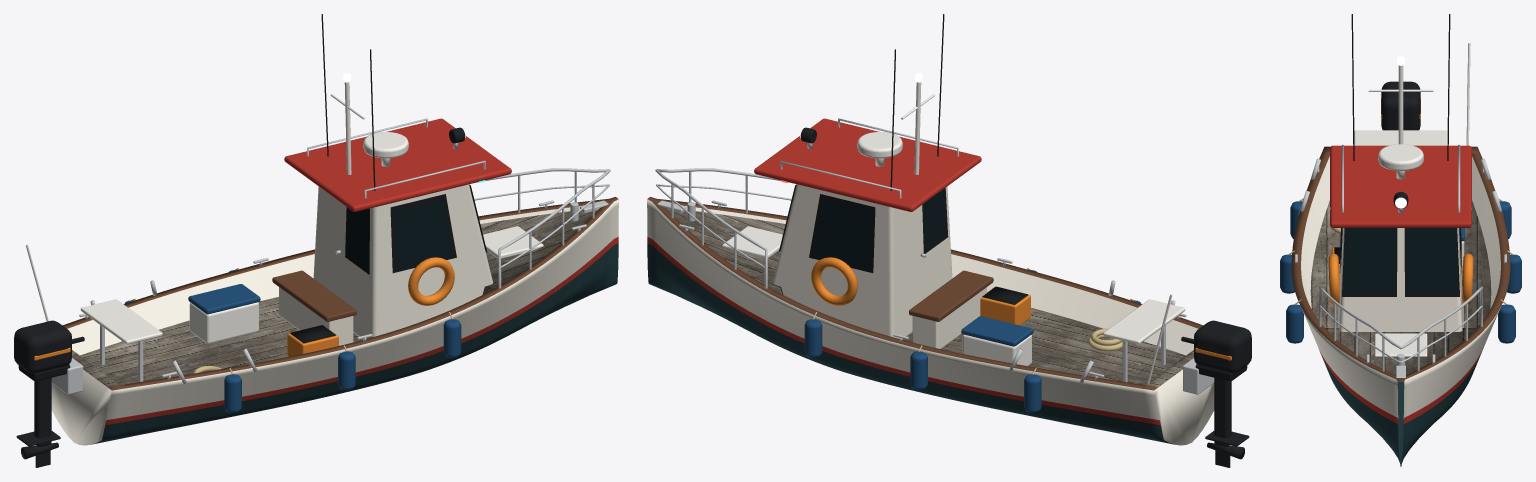
The model's file is boat.glb.
The picture shows the model from 3 angles, left to right: view 1: azimuth 30°, elevation 25°; view 2: azimuth 150°, elevation 25°; view 3: azimuth 270°, elevation 25°; orthographic projection.
Parts seen in each view (by area): view 1: boat; view 2: boat; view 3: boat.
Boxes of the visible parts, x1,y1,x2,y2 form: boat: (14,14,618,467); boat: (647,14,1251,467); boat: (1280,14,1521,466).
Size of the model in its own units: 8.13 by 4.69 by 2.83.
18 materials, 1 textured.
